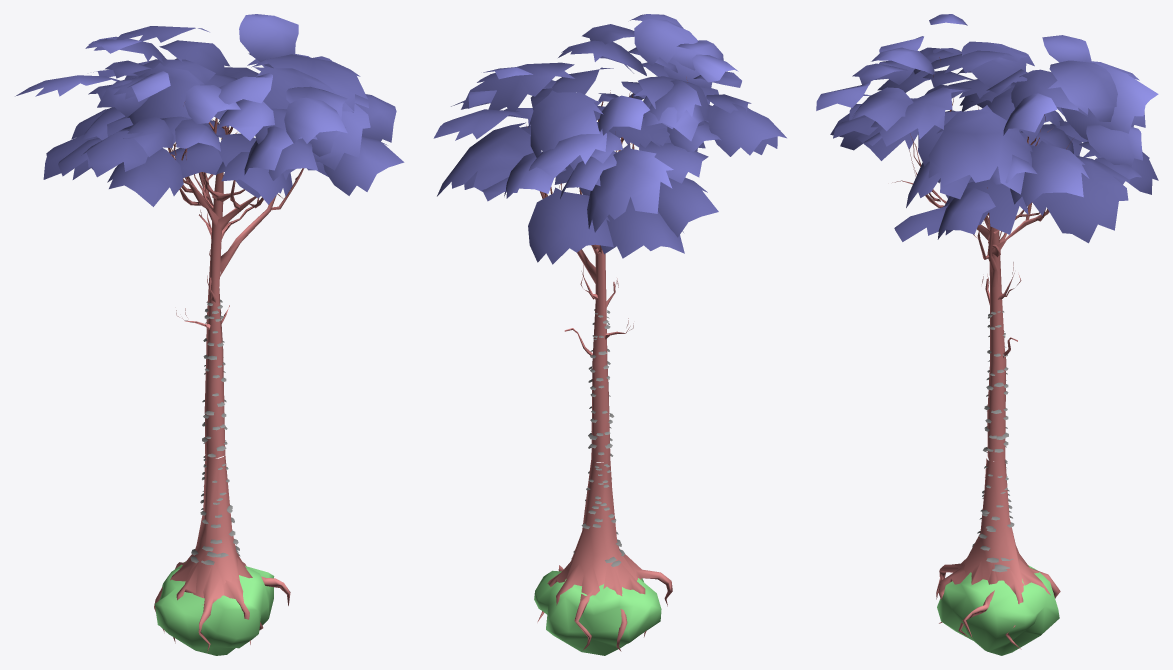
The model's file is SM_tree_jungle_large_A.gltf.
3 renders of one model, left to right at view 1: azimuth 30°, elevation 25°; view 2: azimuth 150°, elevation 25°; view 3: azimuth 270°, elevation 25°, orthographic. The views are drawn at different scales.
Visible parts, largest first — view 1: SM_tree_jungle_large_A; view 2: SM_tree_jungle_large_A; view 3: SM_tree_jungle_large_A.
Boxes of the visible parts, x1=… form: SM_tree_jungle_large_A: x1=15, y1=14, x2=404, y2=655; SM_tree_jungle_large_A: x1=433, y1=14, x2=786, y2=655; SM_tree_jungle_large_A: x1=816, y1=14, x2=1158, y2=655.
Size of the model in its own units: 30.59 by 55.42 by 29.13.
